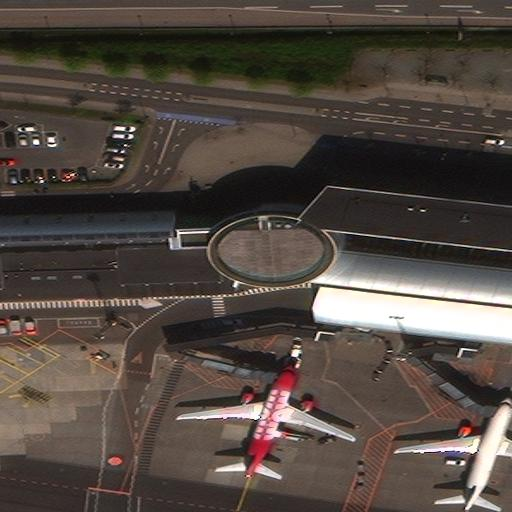Medium Civil Transport: (178, 359, 356, 479), (394, 394, 512, 512)
